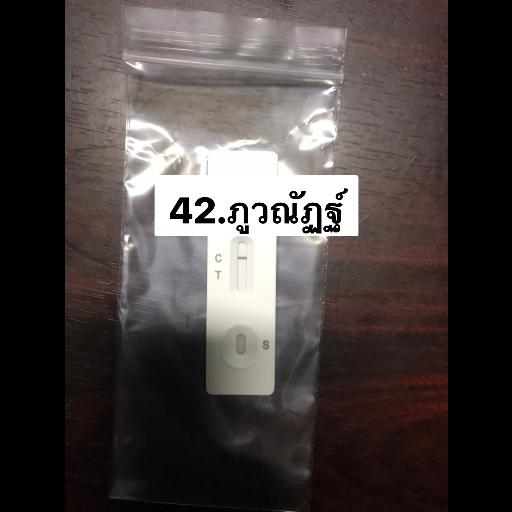Neg: (206, 150, 274, 394)
